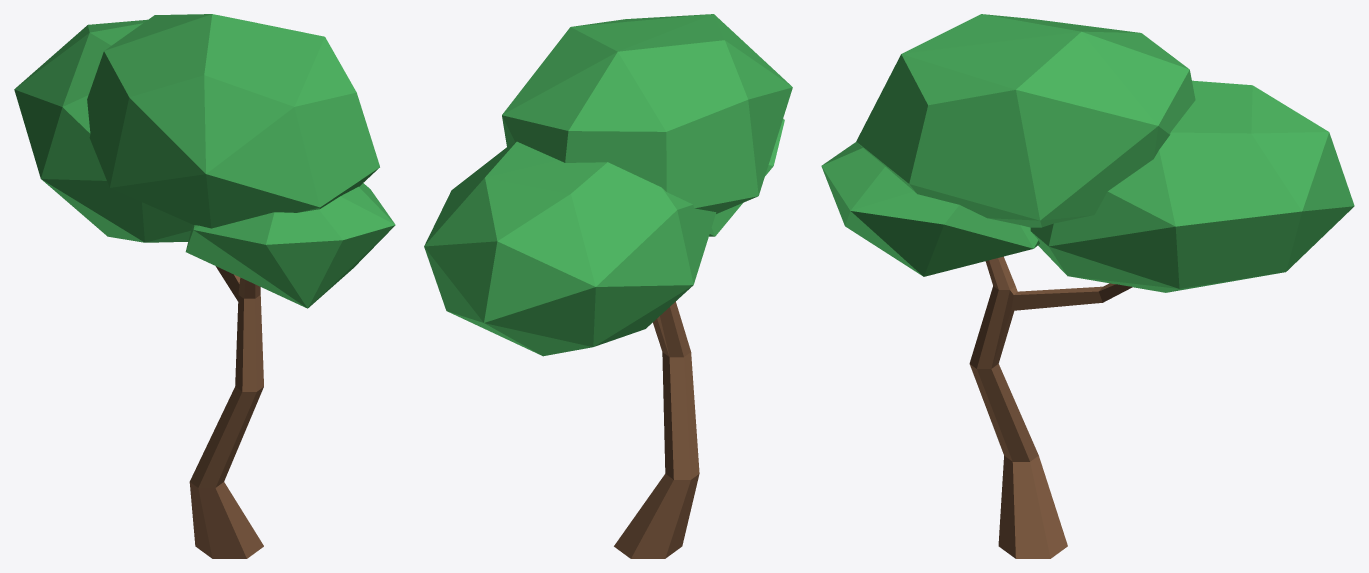
File: Boom4.fbx
The picture shows the model from 3 angles, left to right: view 1: azimuth 30°, elevation 25°; view 2: azimuth 150°, elevation 25°; view 3: azimuth 270°, elevation 25°; orthographic projection.
Visible parts, largest first — view 1: Sphere.001, Cylinder; view 2: Sphere.001, Cylinder; view 3: Sphere.001, Cylinder.
Boxes of the visible parts, bbox=[...] form: Sphere.001: bbox=[14, 14, 395, 308]; Cylinder: bbox=[189, 266, 263, 558]; Sphere.001: bbox=[424, 14, 792, 356]; Cylinder: bbox=[614, 301, 699, 558]; Sphere.001: bbox=[821, 14, 1354, 292]; Cylinder: bbox=[969, 256, 1132, 558].
Size of the model in its own units: 773 by 1551 by 1448.
